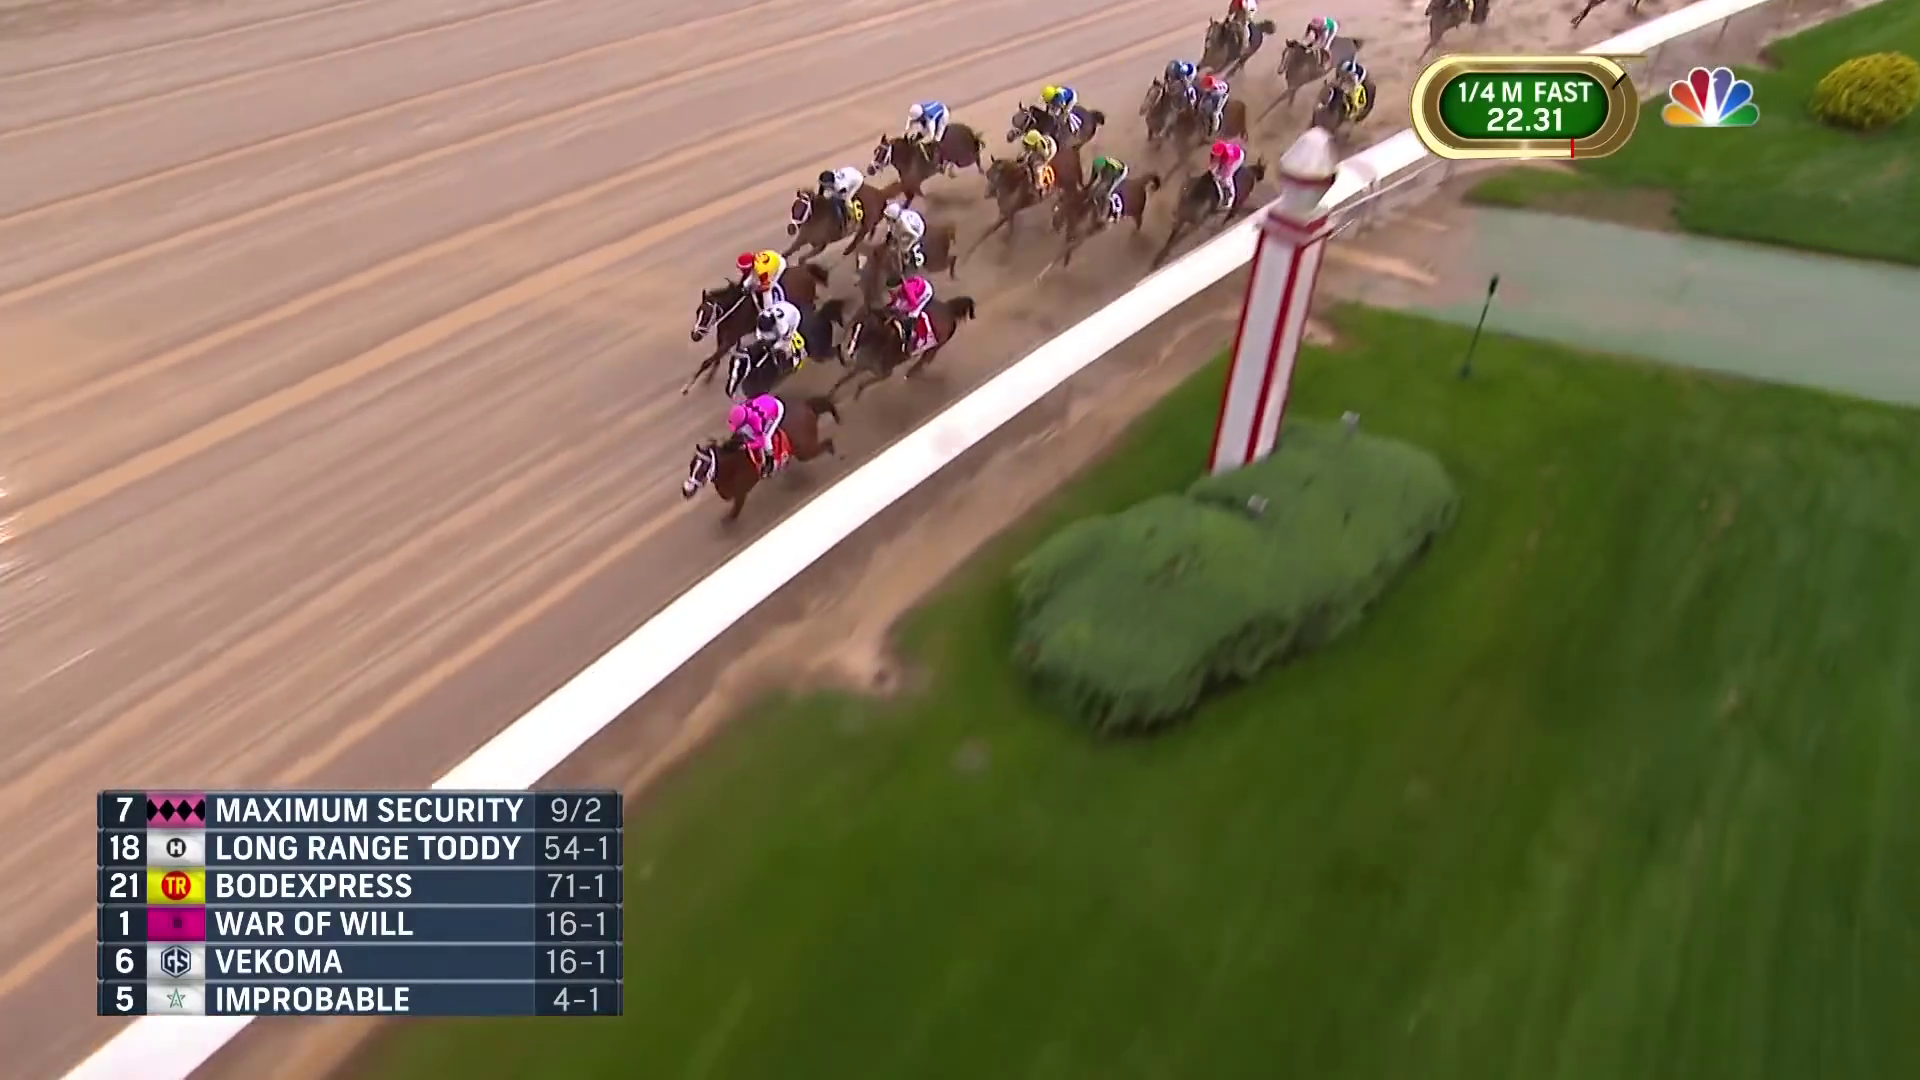jockey: (737, 247, 790, 331), (729, 400, 785, 465), (885, 202, 926, 273), (756, 302, 799, 367), (815, 166, 858, 225), (891, 278, 934, 339), (1040, 80, 1079, 144), (905, 99, 949, 152), (1091, 153, 1126, 218), (1196, 76, 1229, 145), (1021, 129, 1056, 191), (1209, 135, 1241, 200), (1333, 58, 1370, 113), (1302, 20, 1341, 65), (1164, 57, 1196, 112)
